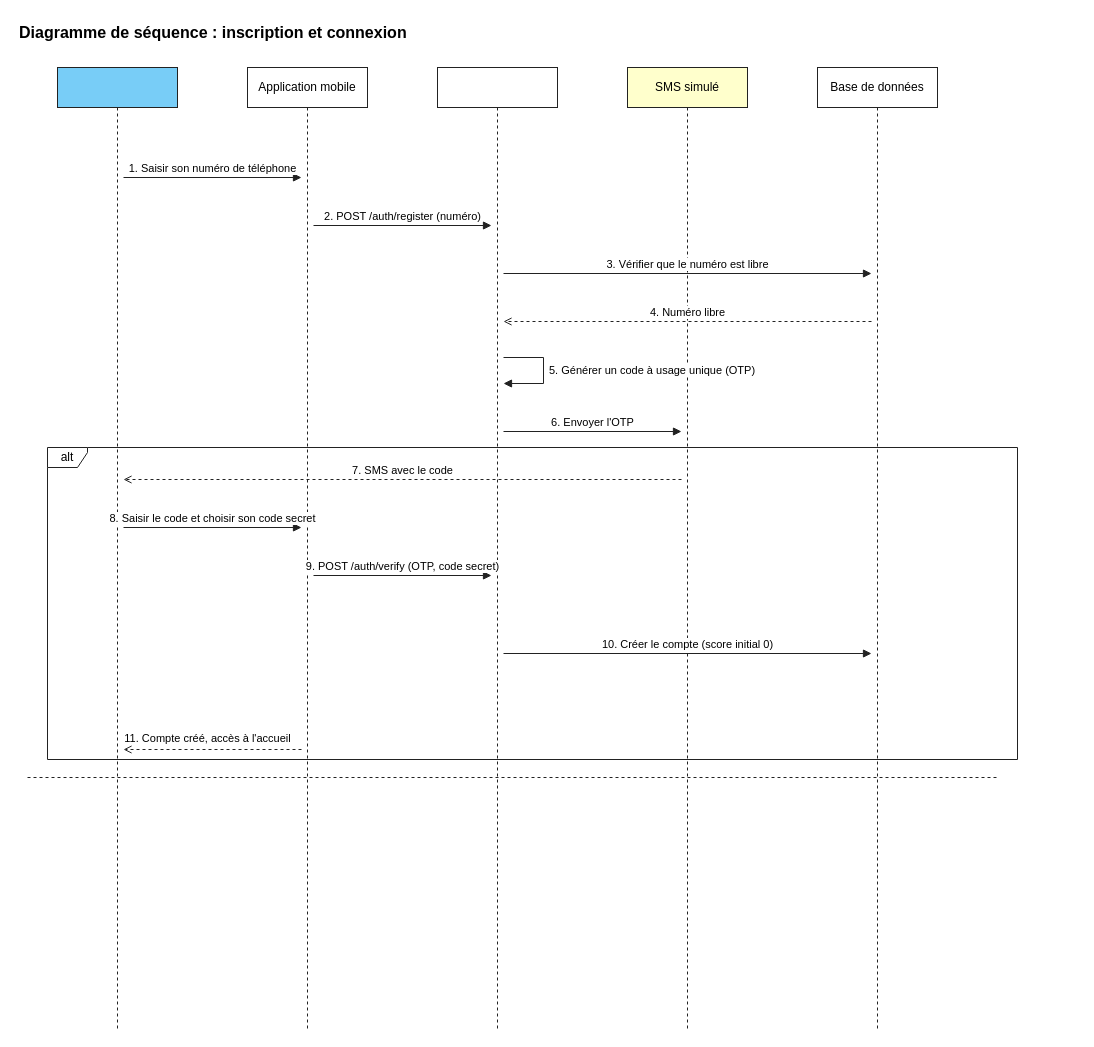
Image size: 1094x1047. Some labels were removed from this diagram. Here are the shapes that lost their labels. From the top down, the box of each, then its label:
(56, 66, 178, 1030): Membre
(436, 66, 558, 1030): API Comptes
